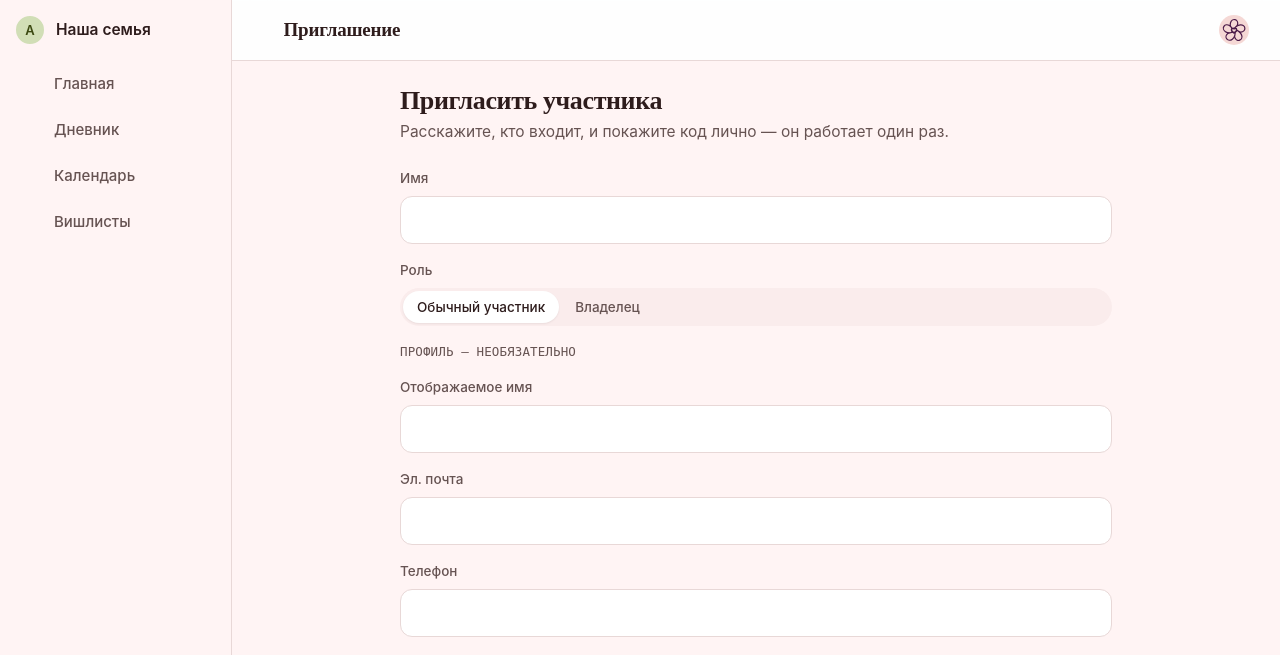
Test: InviteMemberScreen › provisions the member and shows the plaintext code once
expect the heading "Пригласить участника" is shown: met, box [400,86,662,115]
In the field labelled "Имя": (756, 220) [400,196,1112,244], type "Дима"
(page scrolled)
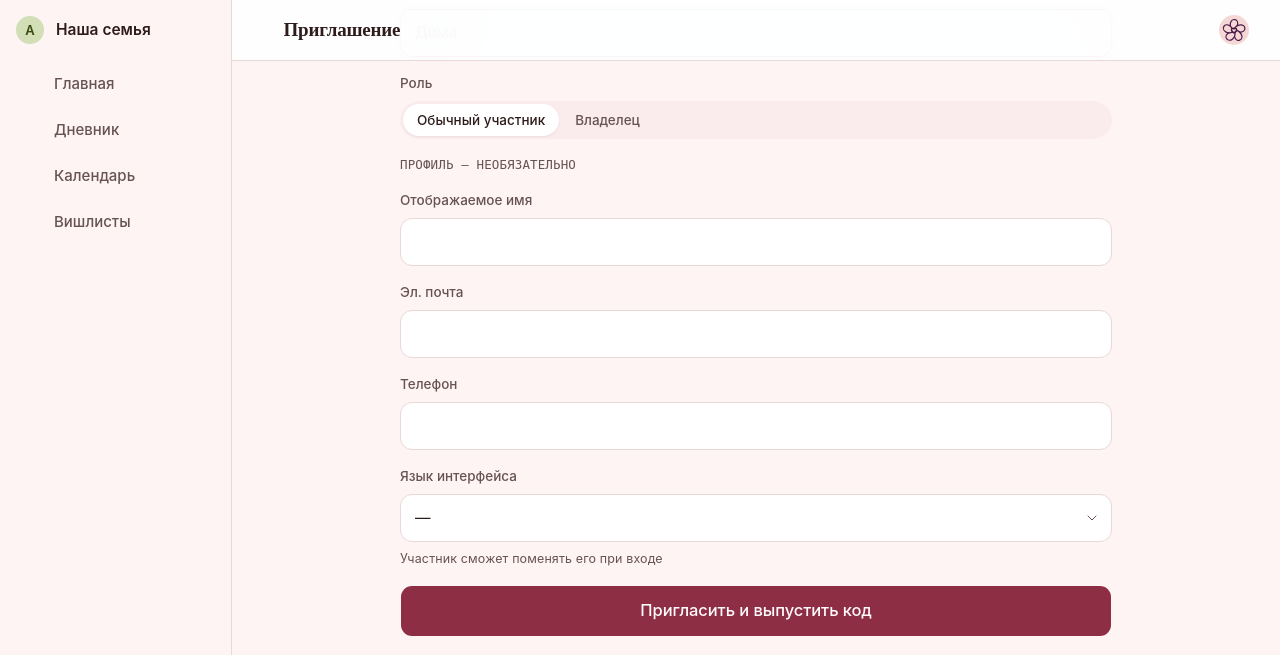
Click the button "Пригласить и выпустить код": (756, 611) [400,585,1112,637]
(page scrolled)
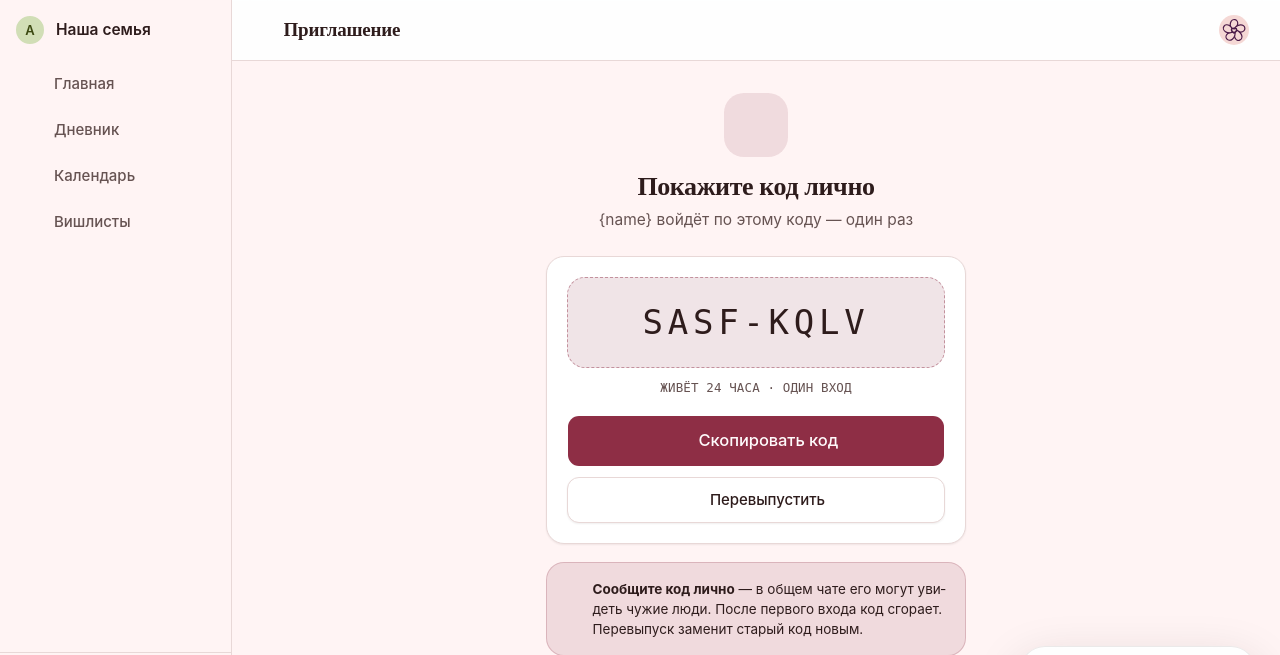
expect the text "SASF-KQLV" is shown once: met, box [567,277,945,368]
expect the text "Живёт 24 часа · один вход" is shown: met, box [660,380,852,395]
